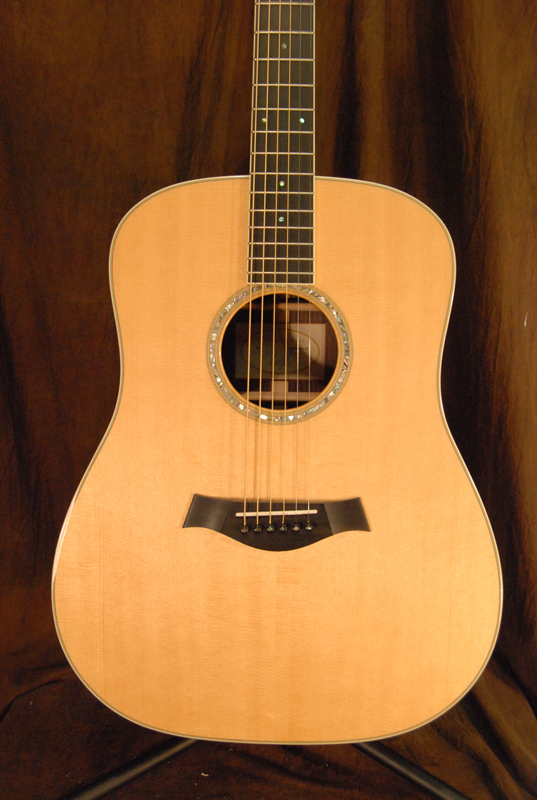guitar: (48, 1, 505, 746)
